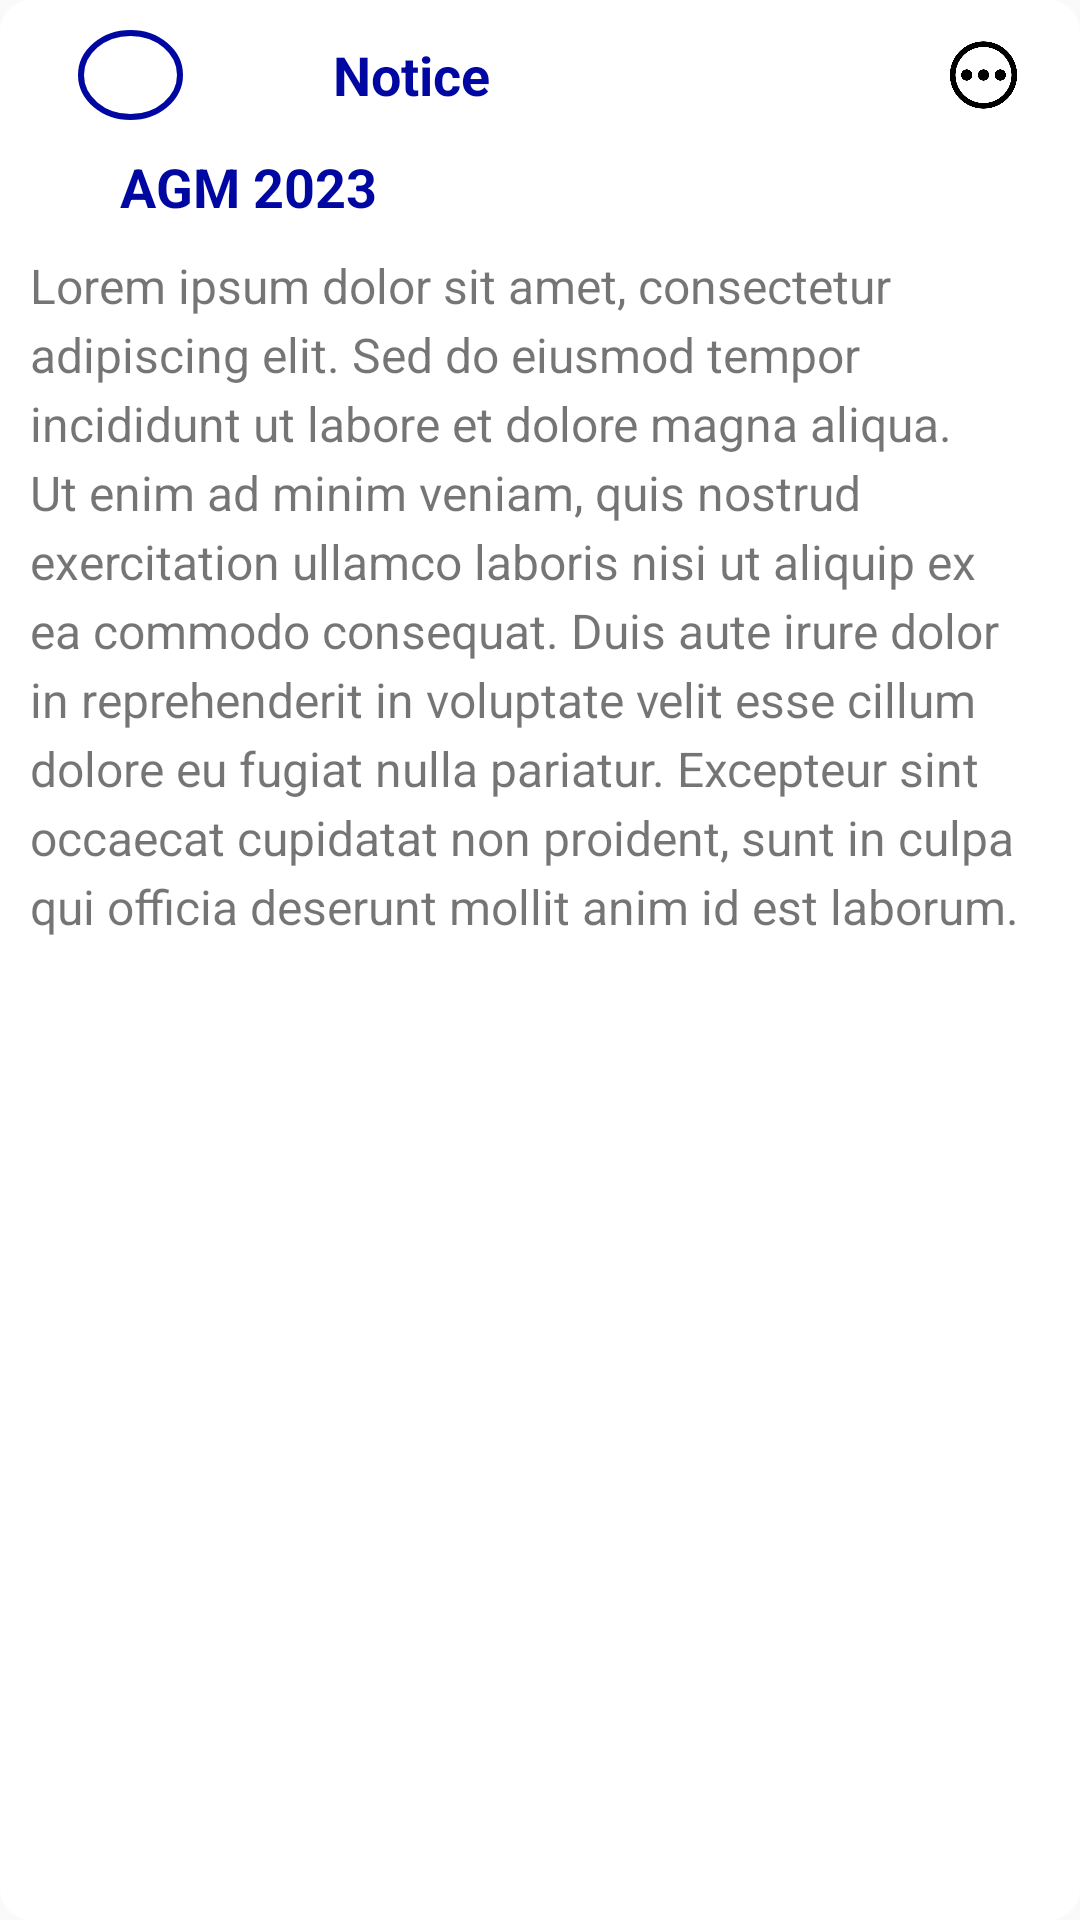

Where icons sit on this 1080 x 1920 app screen, as (x1, y1, x2, y2):
dots: (950, 41, 1017, 109)
